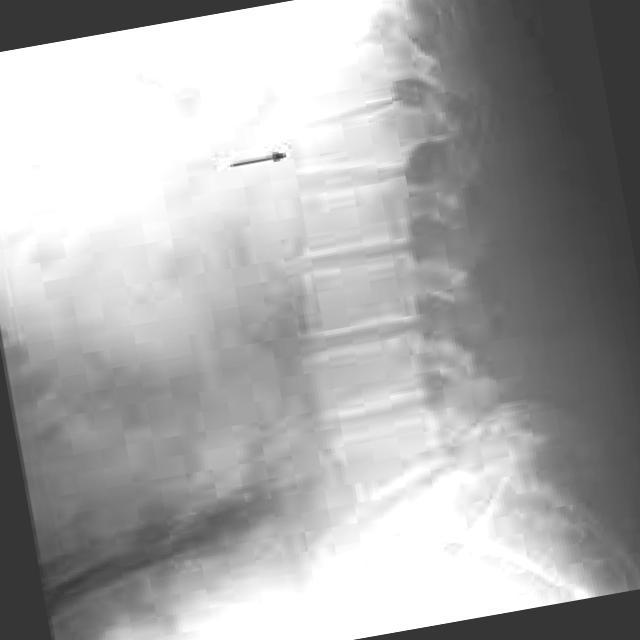Compression-Crush Fracutre: (275, 129, 440, 175)
